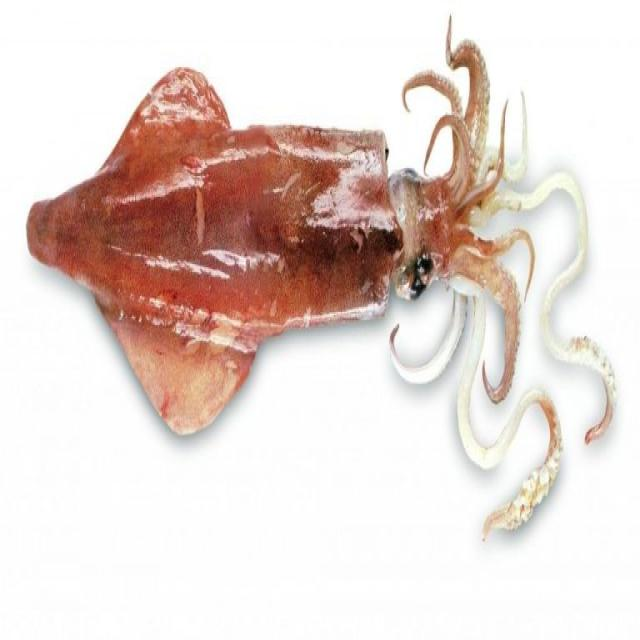SQUID: (19, 21, 602, 462)
